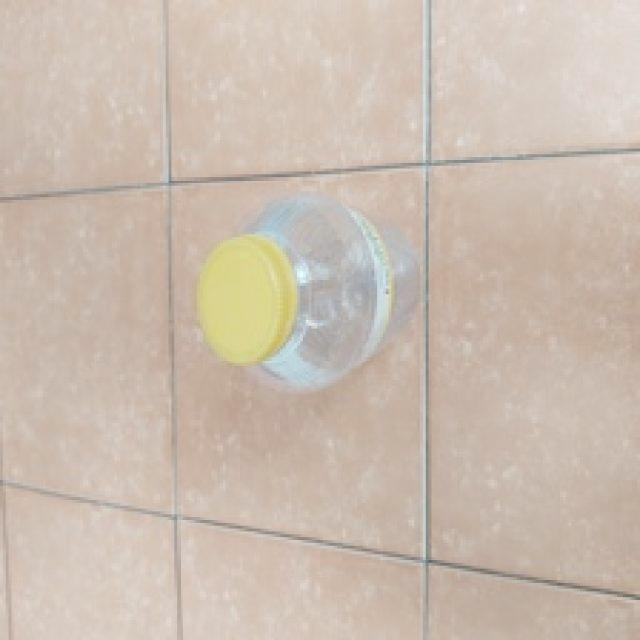bottle: (196, 173, 422, 396)
